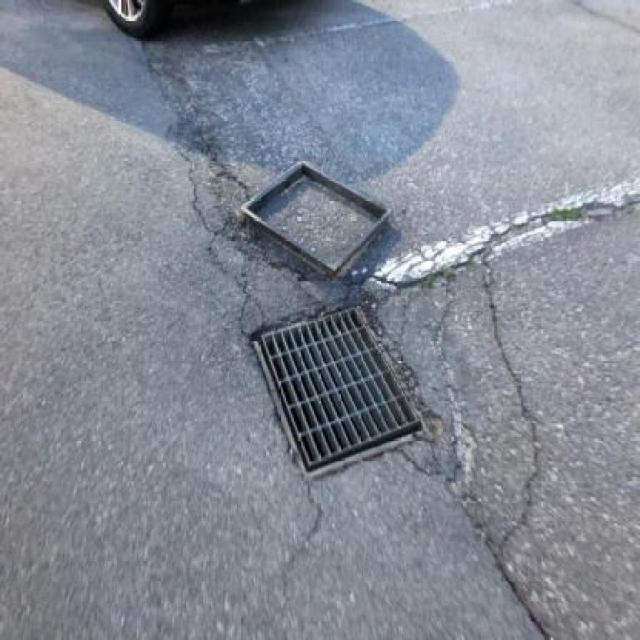Drain Hole: (251, 318, 417, 470)
